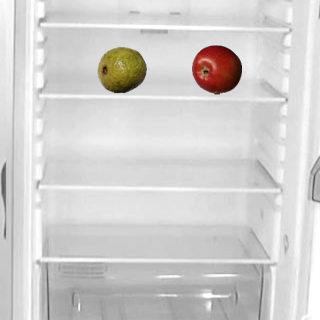Apple Braeburn: (191, 44, 241, 94)
Guava: (96, 44, 146, 94)
